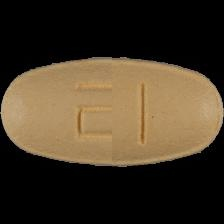55154-6966: (0, 0, 224, 224)
